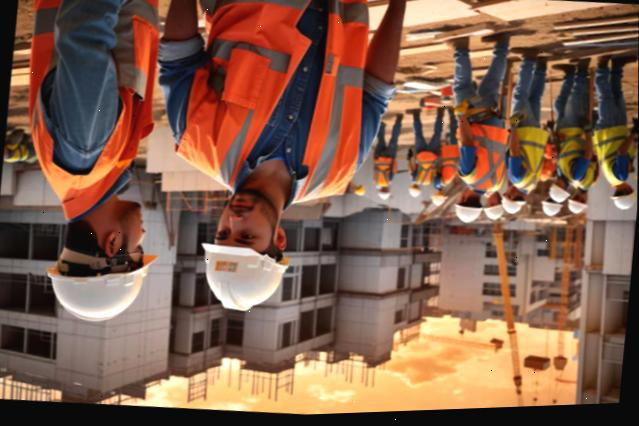helmet: (40, 243, 160, 328), (190, 240, 292, 312), (499, 198, 526, 220), (450, 207, 479, 226), (547, 186, 573, 206), (612, 194, 634, 217), (567, 198, 587, 219), (537, 201, 563, 217), (481, 205, 504, 222), (425, 196, 451, 208), (377, 190, 393, 200), (407, 190, 420, 201)
vest: (177, 0, 372, 211), (11, 0, 162, 222), (457, 116, 510, 194), (588, 131, 638, 194), (507, 128, 545, 192), (553, 131, 588, 185), (407, 149, 439, 189), (570, 158, 599, 194), (439, 143, 460, 188), (372, 153, 396, 187)
